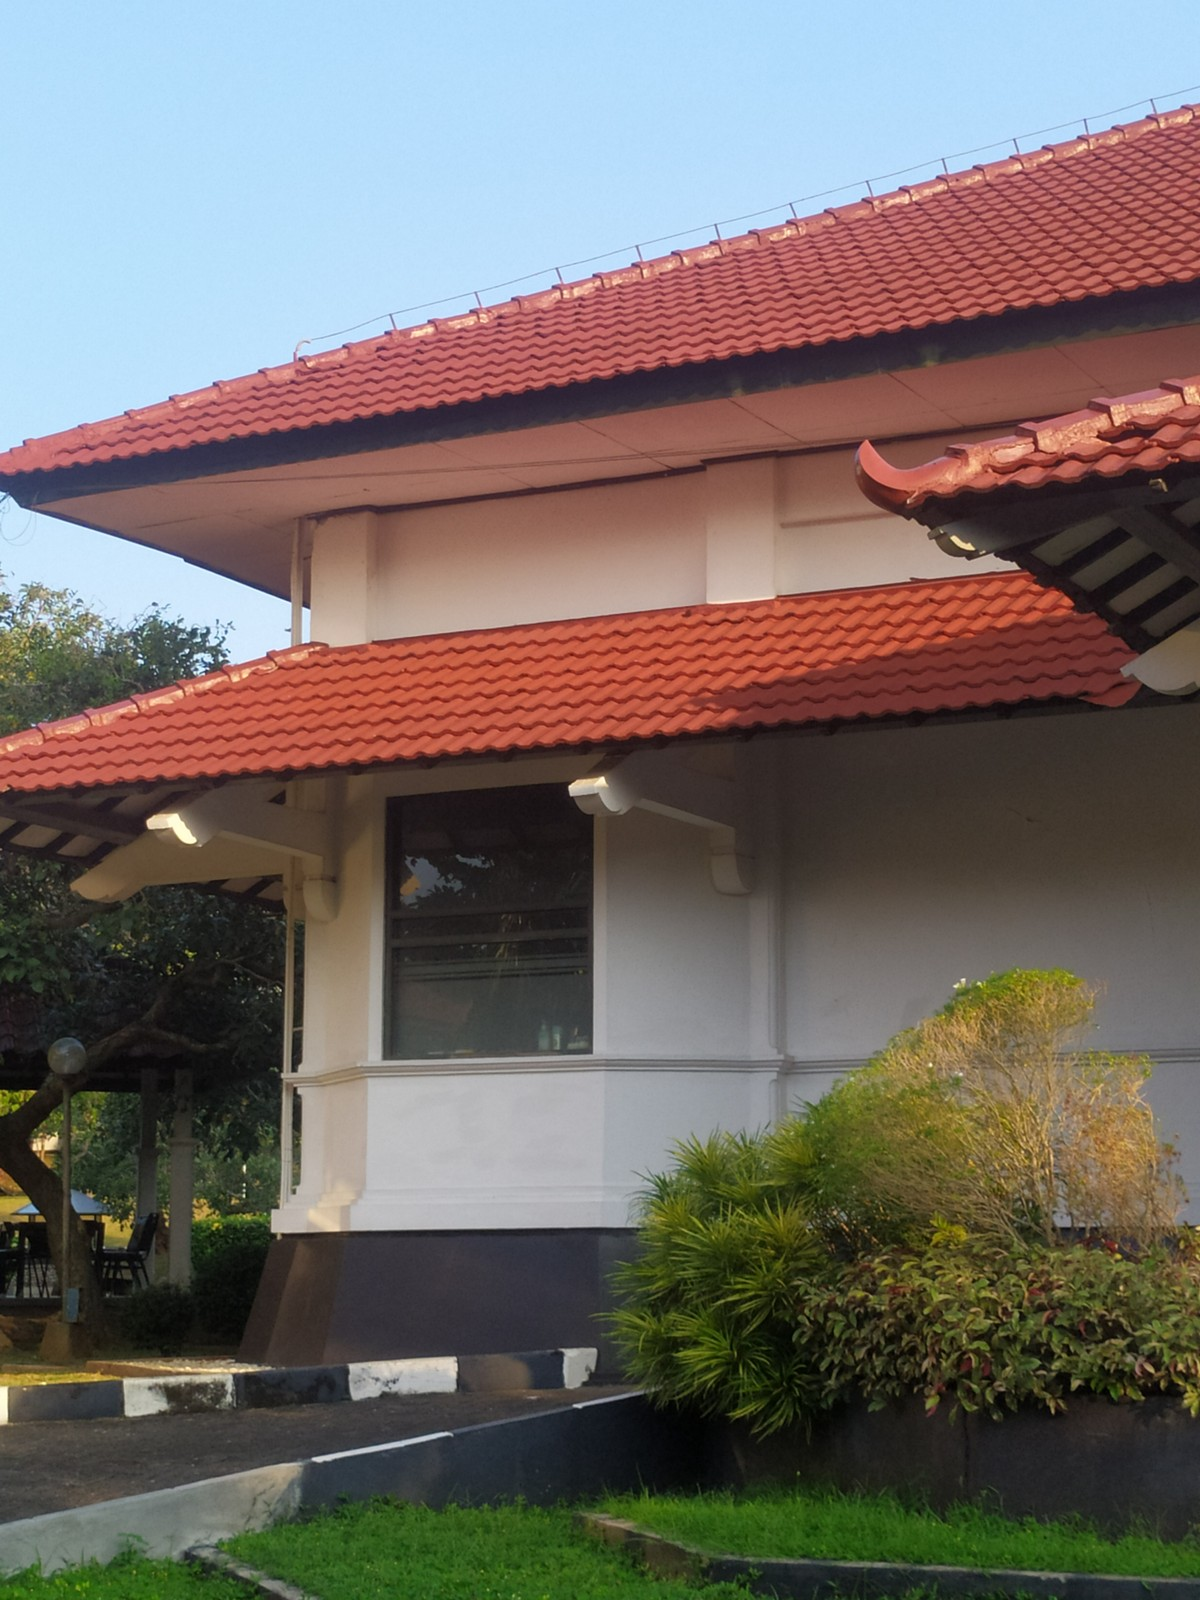concrete beam: (649, 767, 744, 837)
